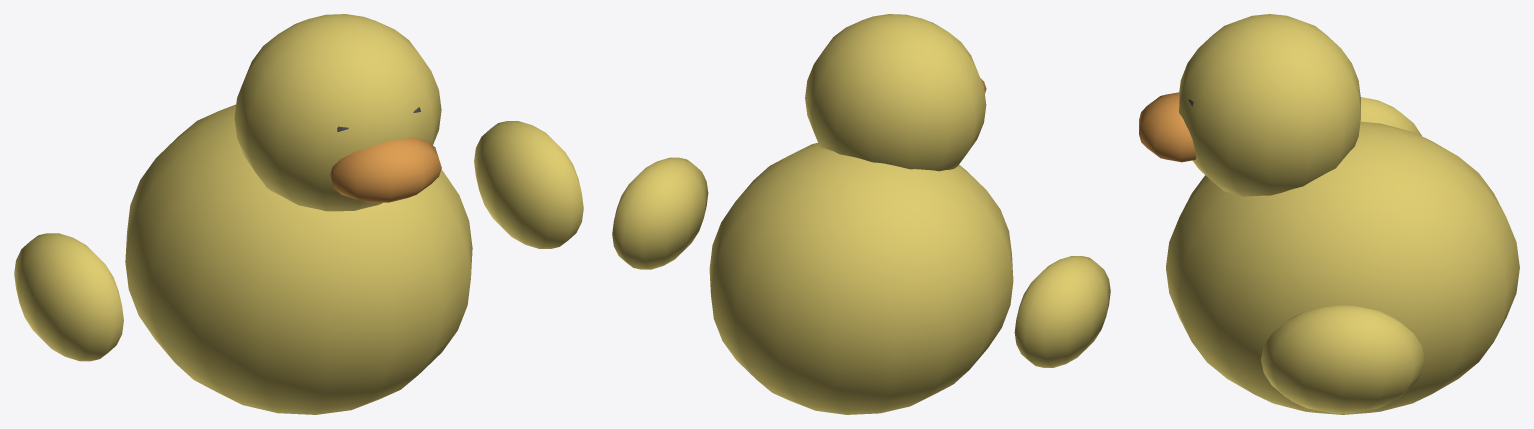
The model's file is duck-excited.glb.
3 views of the same model, side by side, from view 1: azimuth 30°, elevation 25°; view 2: azimuth 150°, elevation 25°; view 3: azimuth 270°, elevation 25° (orthographic). The views are drawn at different scales.
Parts seen in each view (by area): view 1: Duck; view 2: Duck; view 3: Duck.
Boxes of the visible parts, box(x1,y1,x2,y2) form: Duck: box(14, 14, 583, 414); Duck: box(612, 14, 1110, 414); Duck: box(1139, 14, 1519, 414).
Bounding box in the file's own units: 1.95 × 1.41 × 1.3.
